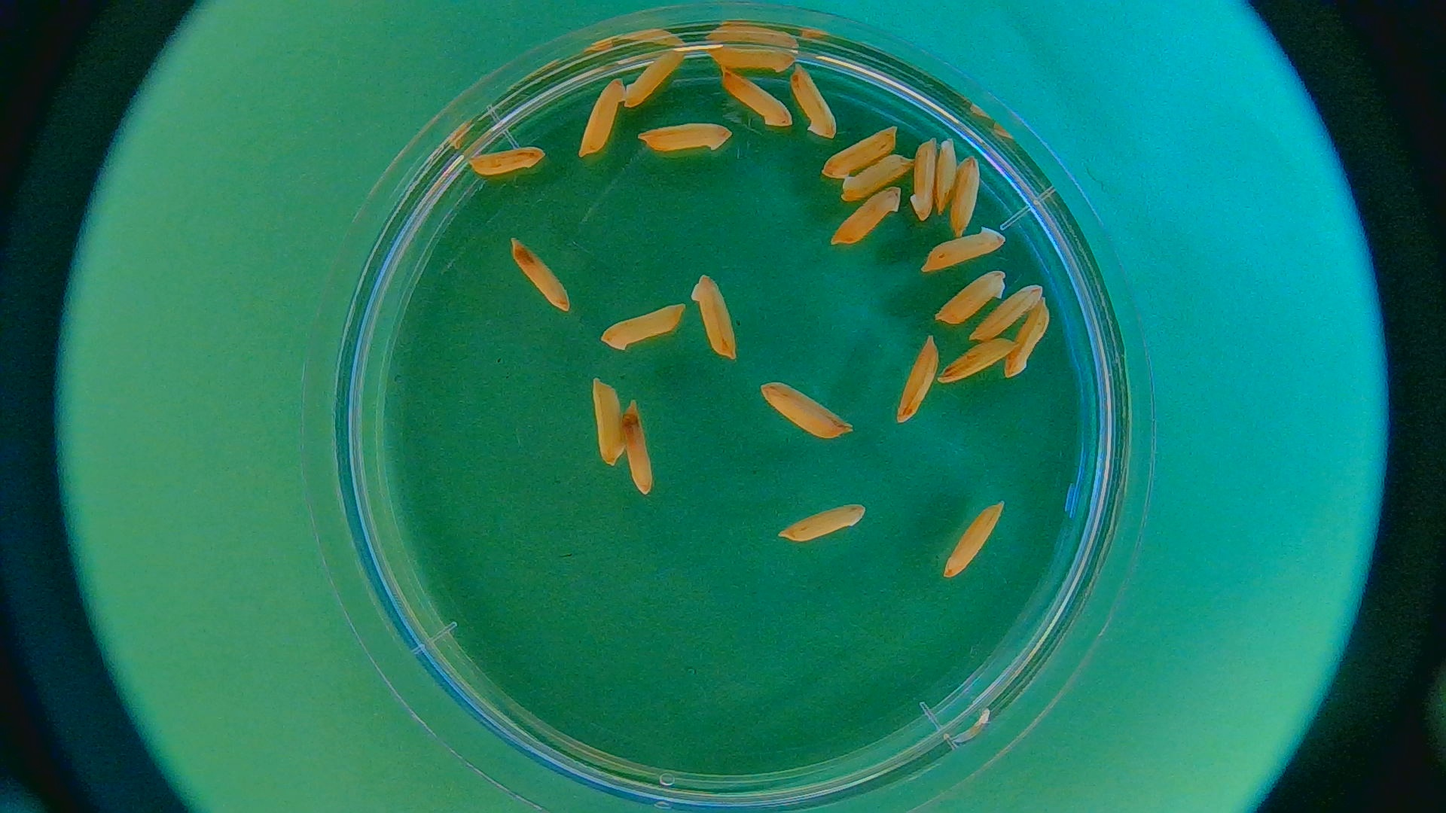no: (756, 378, 858, 439), (501, 232, 574, 313), (935, 501, 1007, 581), (712, 65, 796, 130), (932, 335, 1024, 387), (935, 267, 1014, 327), (689, 274, 741, 363), (969, 282, 1043, 344), (600, 303, 691, 352), (822, 124, 901, 179), (618, 397, 659, 501), (892, 335, 941, 422), (828, 187, 901, 244), (784, 68, 839, 142), (841, 154, 919, 205), (576, 77, 625, 158), (771, 504, 868, 544), (920, 227, 1005, 272), (637, 118, 734, 157), (622, 48, 683, 105), (587, 376, 624, 467), (947, 156, 984, 245), (702, 42, 796, 75), (909, 134, 941, 221), (465, 145, 547, 177), (932, 138, 955, 215)
